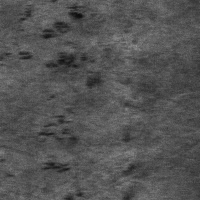rolled-in_scale: (32, 4, 106, 88), (36, 97, 83, 198)
